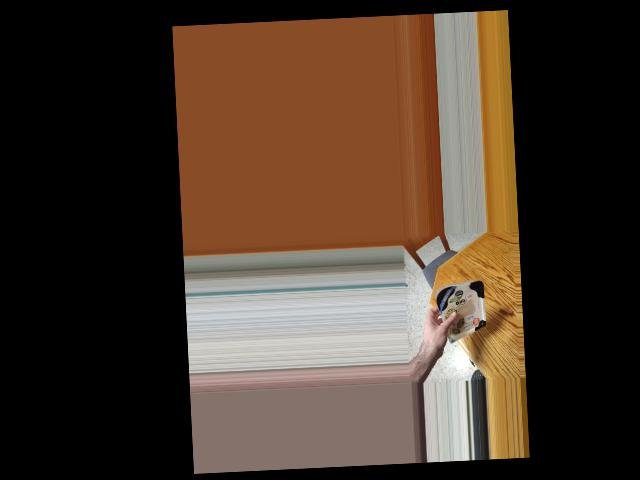cheese: (442, 279, 481, 339)
